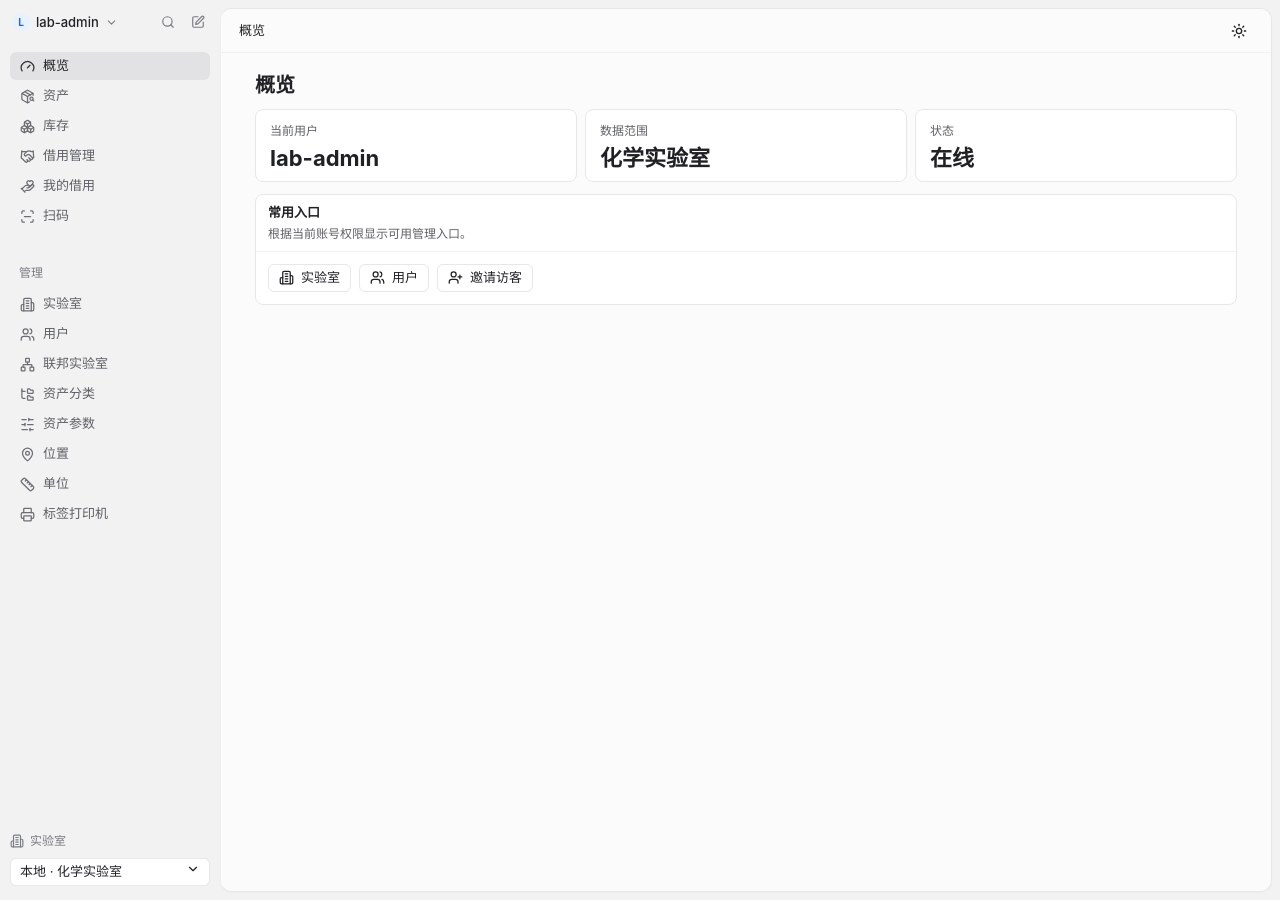
Scenario: AppShell laboratory selector › offers an active federation trust alongside the local laboratory
Expected: the heading "概览" is shown, [255, 73, 295, 97]
Click the dropdown named "选择实验室范围": click(110, 872) [10, 858, 210, 886]
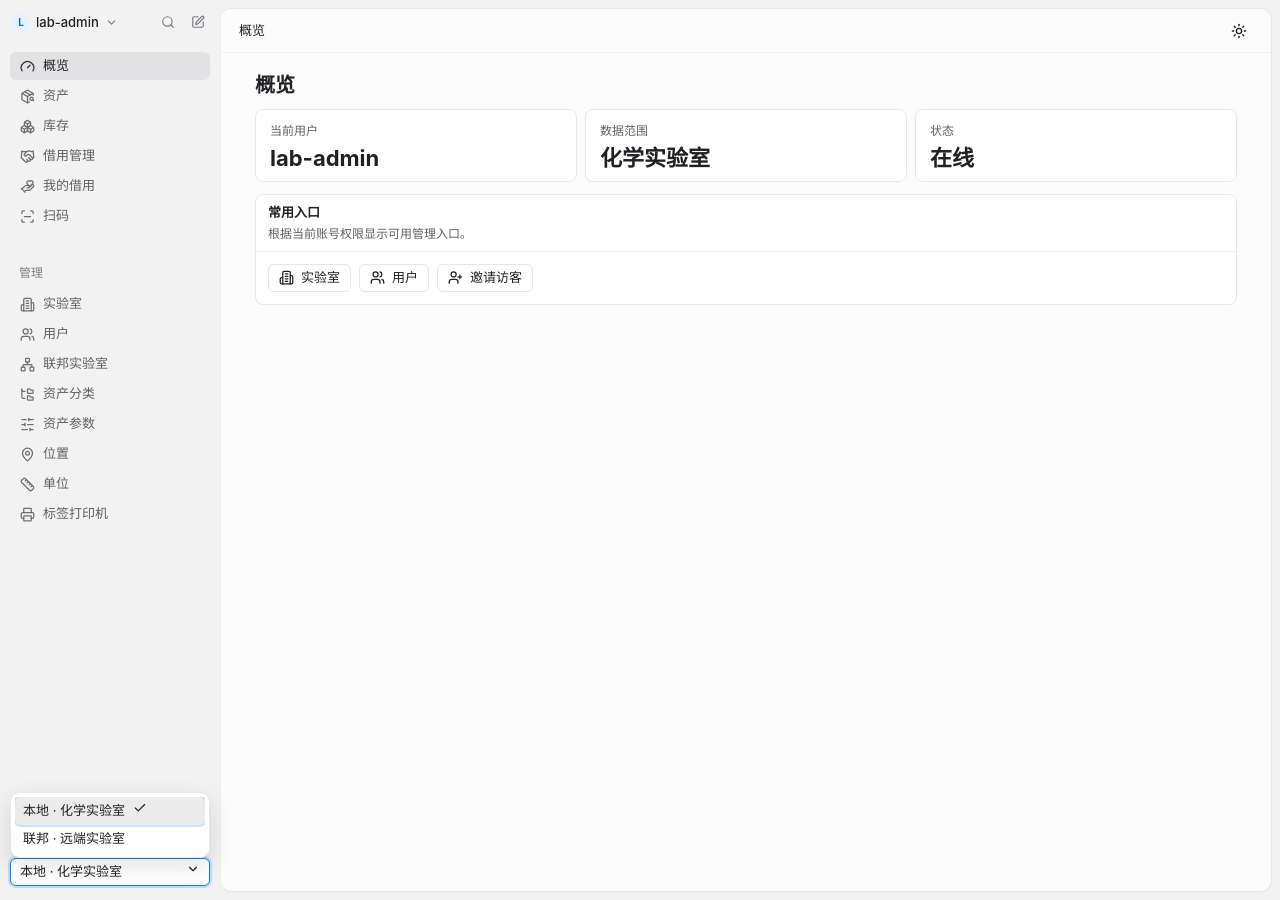
Result: the text "联邦 · 远端实验室" is shown at [23, 829, 125, 849]
